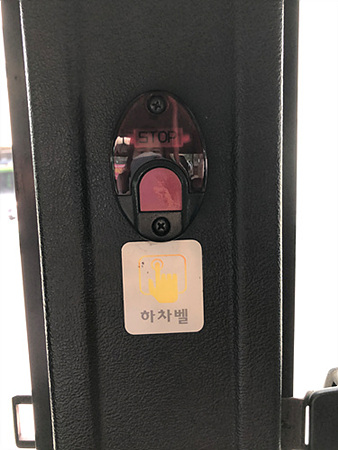bell: (109, 89, 210, 241)
